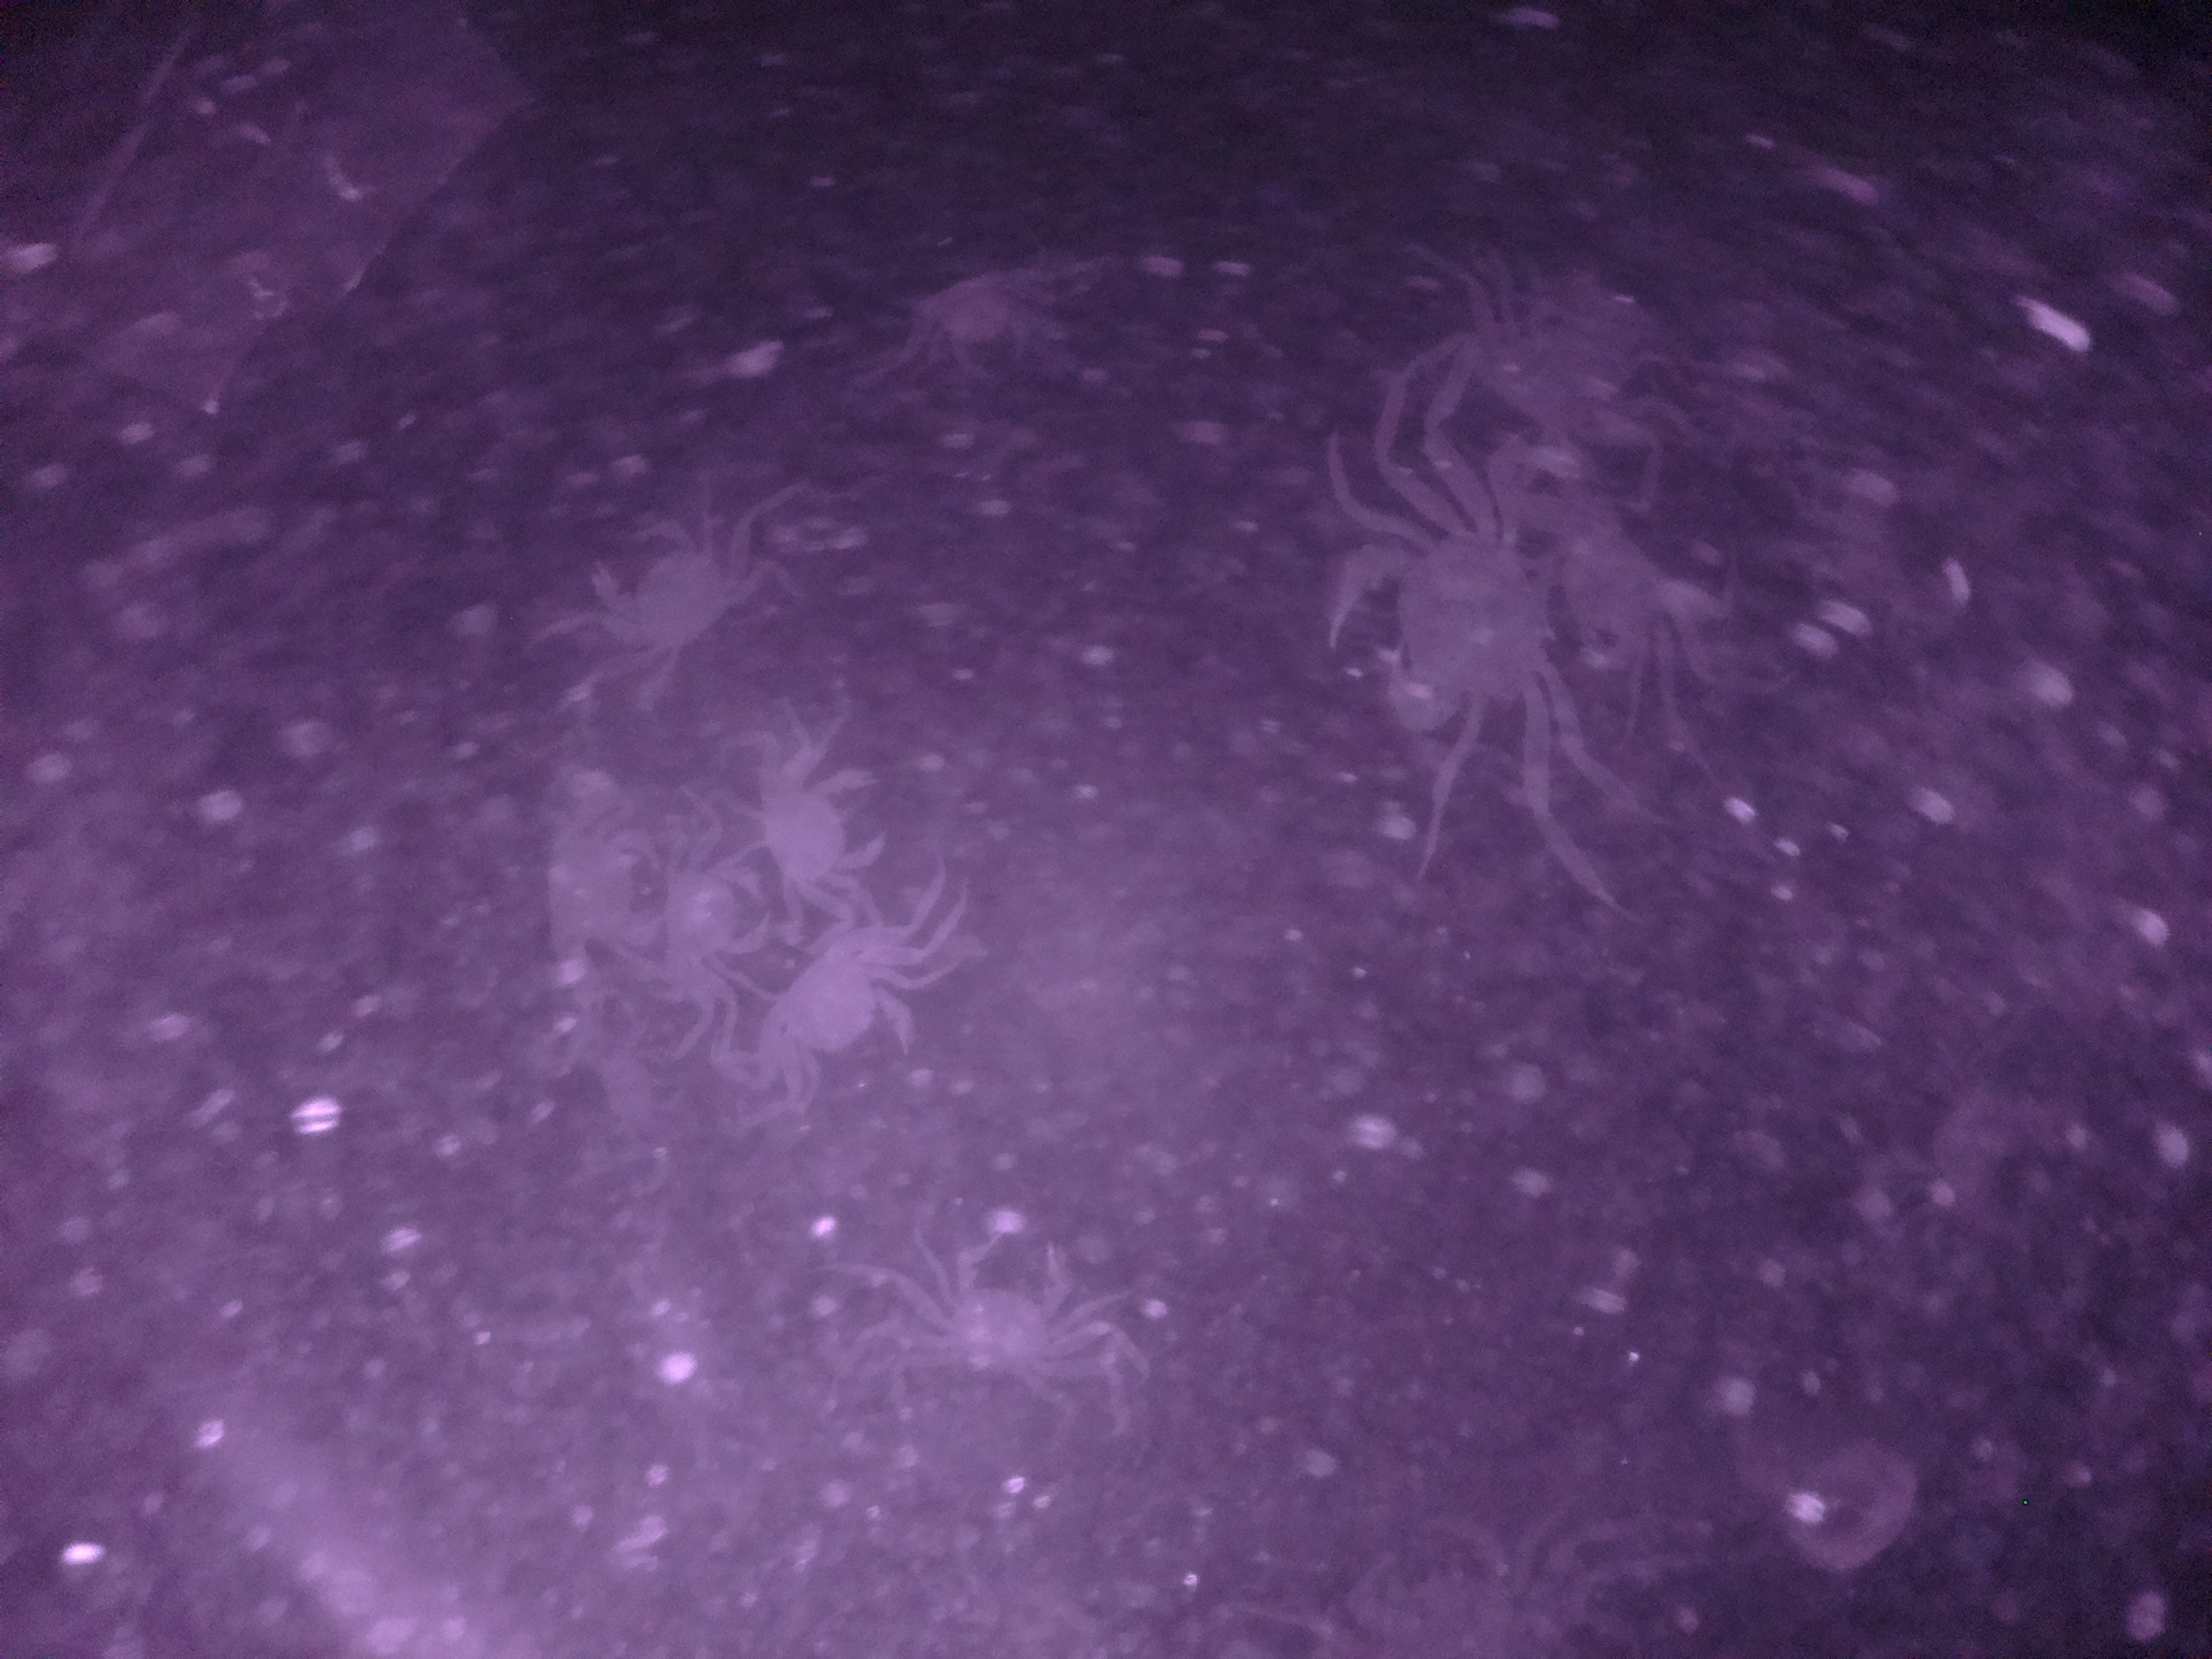Crab: (1313, 486, 1571, 763), (885, 1218, 1096, 1417), (745, 894, 948, 1096), (578, 491, 765, 683), (738, 732, 897, 917), (646, 835, 758, 1018)
